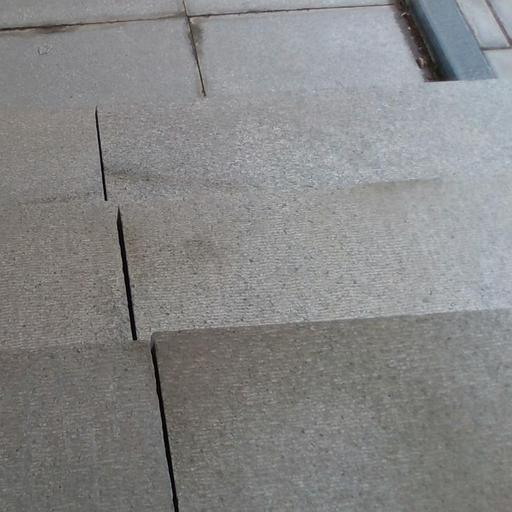stairs: (0, 0, 511, 511), (154, 310, 511, 511)
